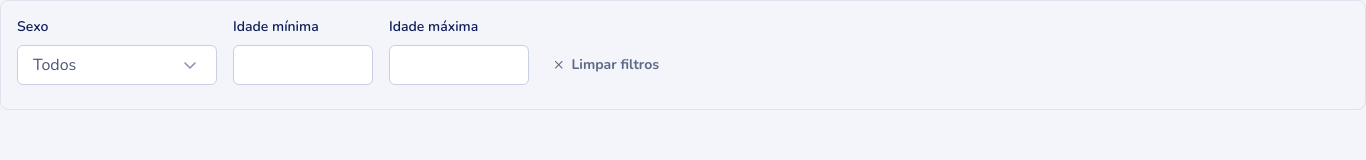
Test: PatientFilters › rejects ages outside 0–150
The width and height of the screenshot is (1366, 160).
In the number field with id "filter-age-min": (303, 65) [233,45,373,85], type "151"
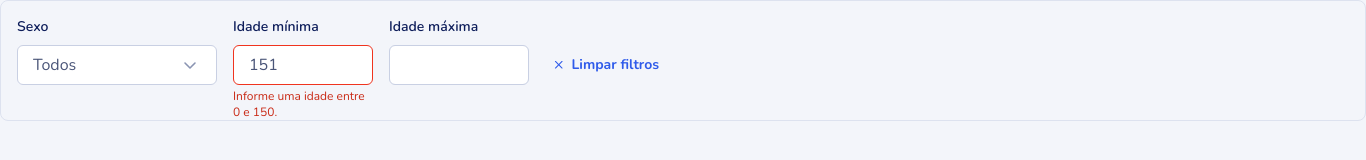
Check: the text with id "filter-age-min-error" reads "Informe uma idade entre 0 e 150.", box [233,88,364,120]
